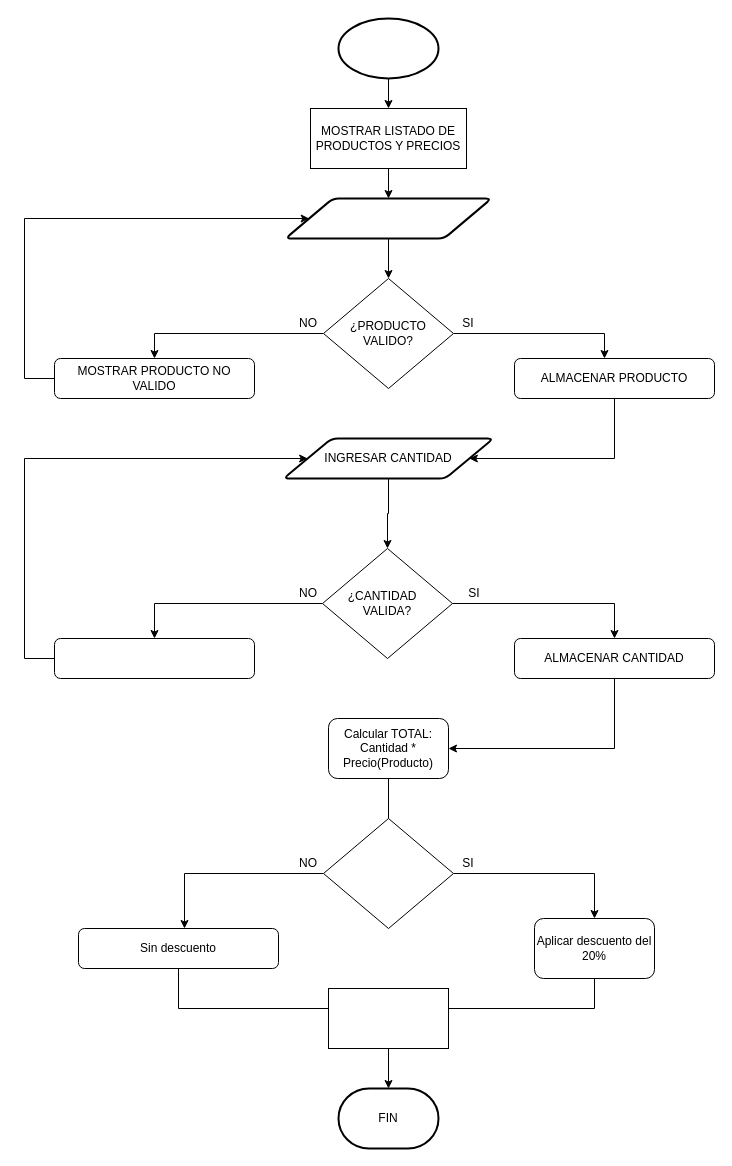
The diagram is 732 pixels wide and 1166 high, and some of its shapes have lost their labels. The shapes that lost their labels are listed below. From the top down, each one's centre as x and y in pixels, then its label:
At point 388,48: "INICIO".
At point 388,218: "INGRESAR PRODUCTO".
At point 154,658: "MOSTRAR CANTIDAD NO VALIDA".
At point 388,873: "TOTAL > $10.000".
At point 388,1018: "Mostrar Total a Pagar".
